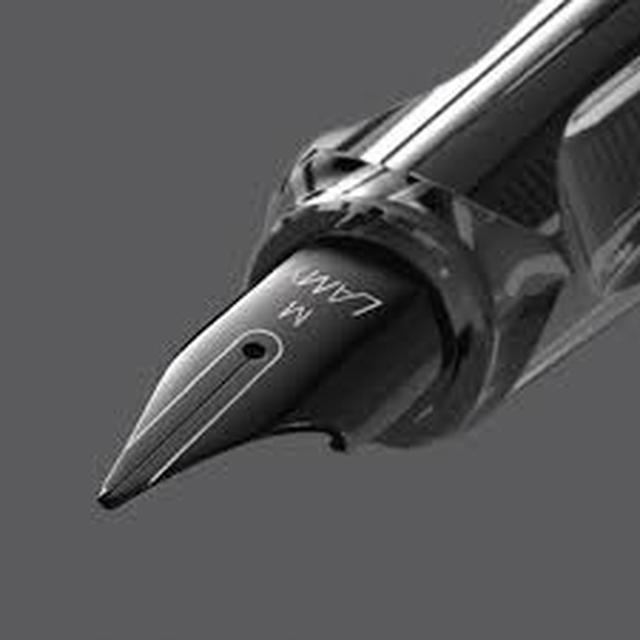pen: (75, 0, 639, 554)
